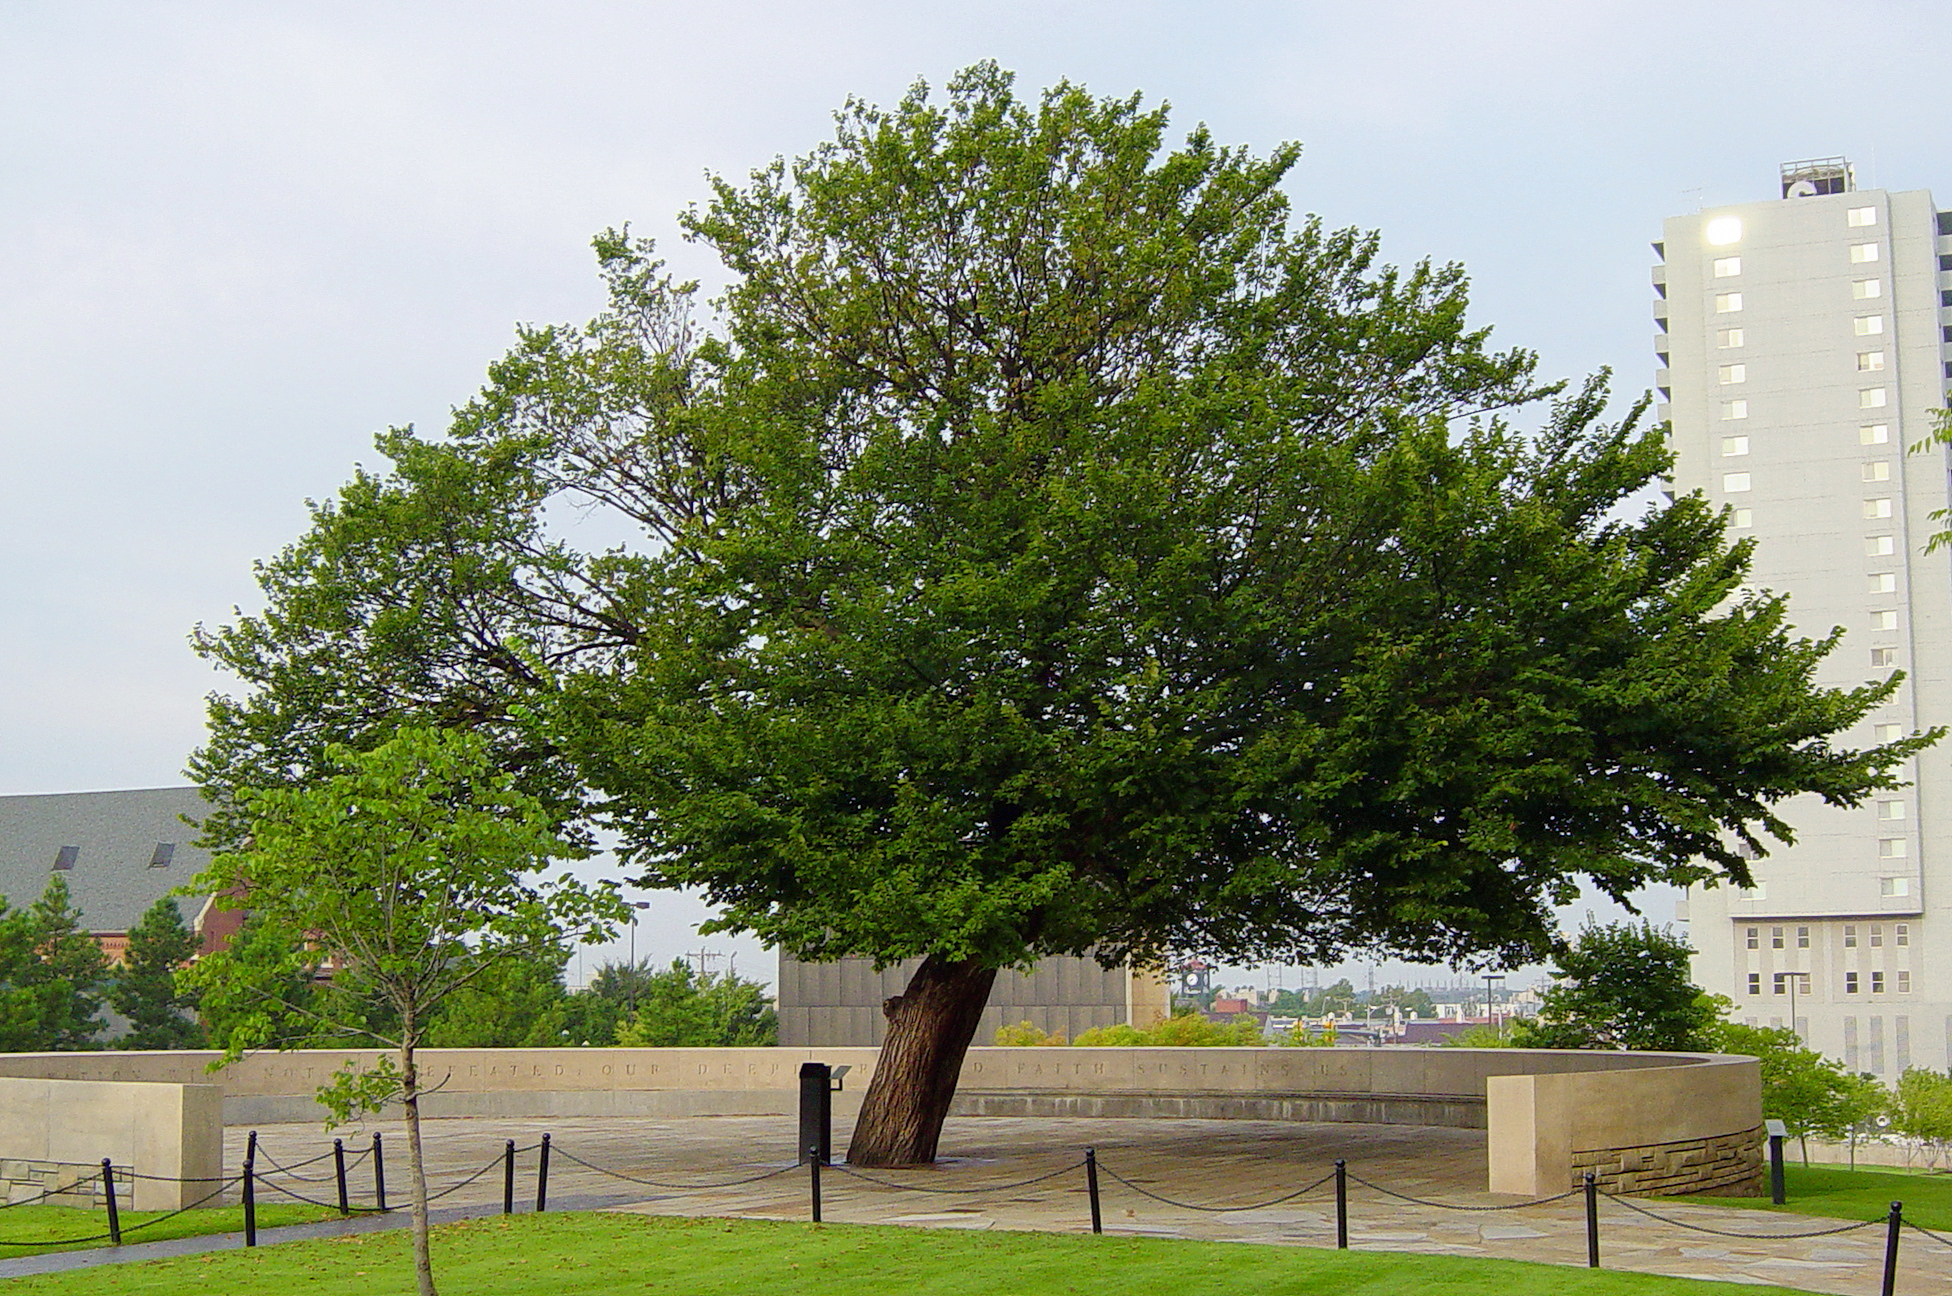tree: (218, 71, 1880, 1166), (179, 733, 630, 1289)
